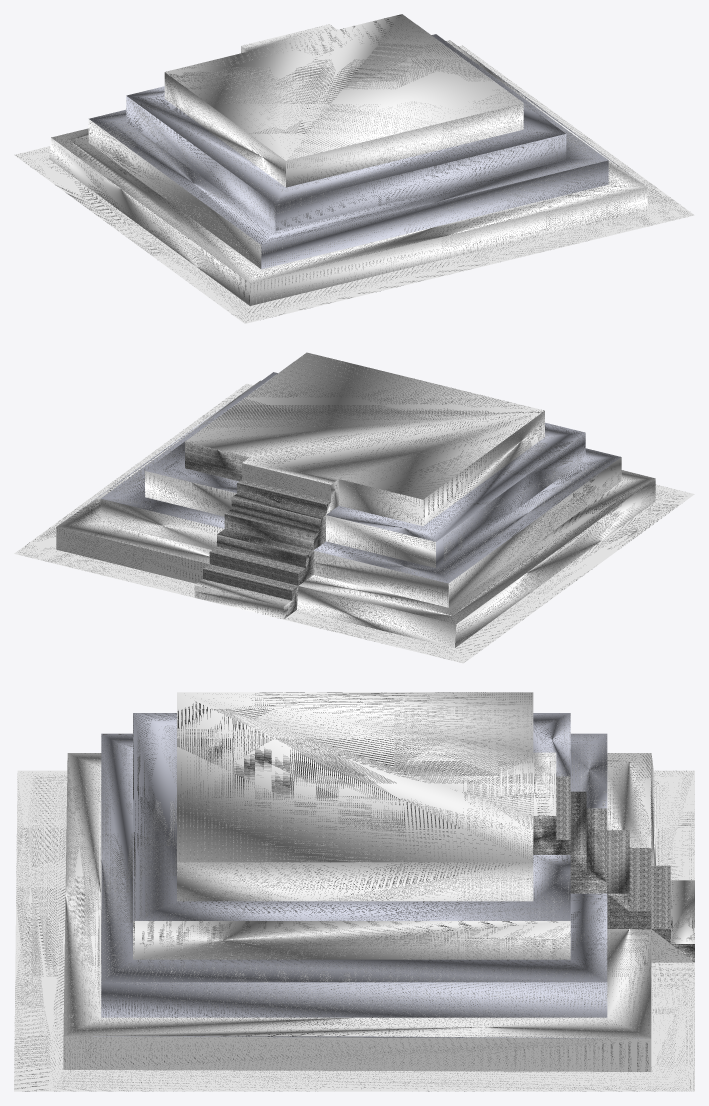
The model's file is piramide.fbx.
3 views of the same model, one above another, from view 1: azimuth 30°, elevation 25°; view 2: azimuth 150°, elevation 25°; view 3: azimuth 270°, elevation 25° (orthographic). The views are drawn at different scales.
Visible parts, largest first — view 1: Mesh12; view 2: Mesh12; view 3: Mesh12.
Boxes of the visible parts, bbox=[...] form: Mesh12: bbox=[14, 14, 694, 323]; Mesh12: bbox=[14, 352, 694, 663]; Mesh12: bbox=[14, 692, 694, 1091].
Bounding box in the file's own units: 12.57 × 2.68 × 11.27.
